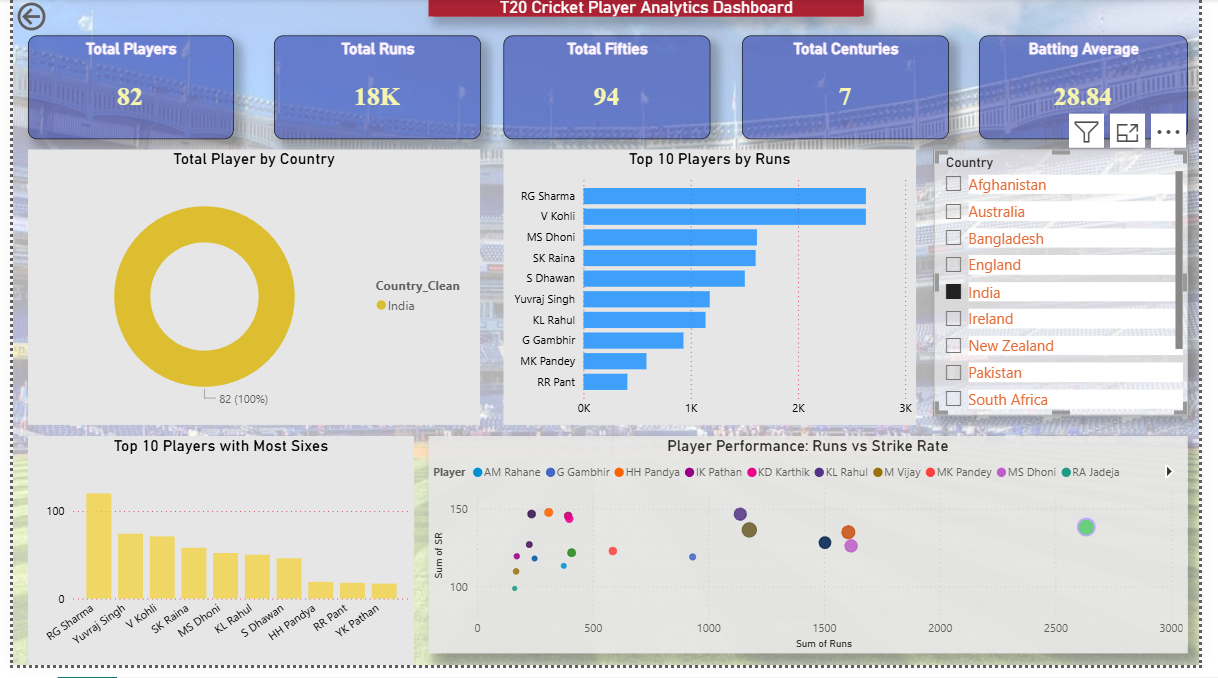

Layout of this report page (visuals, bound fields, positions):
{"tool":"powerbi","page":{"name":"Page 1","canvas":[1280,720],"ordinal":0},"visuals":[{"type":"cardVisual","title":"Total Players","fields":{"Data":["Sheet1.Total Players"]},"box":[16.7,40,221.7,111.7],"z":0},{"type":"cardVisual","title":"Total Centuries","fields":{"Data":["Sheet1.Total Centuries"]},"box":[786.7,40,223.3,111.7],"z":1000},{"type":"cardVisual","title":"Total Fifties","fields":{"Data":["Sheet1.Total Fifties"]},"box":[530,40,223.3,111.7],"z":2000},{"type":"cardVisual","title":"Total Runs","fields":{"Data":["Sheet1.Total Runs"]},"box":[281.7,40,223.3,111.7],"z":3000},{"type":"cardVisual","title":"Batting Average","fields":{"Data":["Sheet1.Batting Average"]},"box":[1043.3,40,225,111.7],"z":4000},{"type":"clusteredBarChart","title":"Top 10 Players by Runs","fields":{"Category":["Sheet1.Player"],"Y":["Sum(Sheet1.Runs)"]},"box":[529.7,163.8,445.4,297.4],"z":5000},{"type":"donutChart","title":"Total Player by Country","fields":{"Y":["Count(Sheet1.Player)"],"Category":["Sheet1.Country_Clean"]},"box":[15.9,163.8,488.3,297.4],"z":6000},{"type":"columnChart","title":"Top 10 Players with Most Sixes ","fields":{"Category":["Sheet1.Player"],"Y":["Sum(Sheet1.6s)"]},"box":[15.9,472.4,416.7,248.1],"z":7000},{"type":"slicer","fields":{"Values":["Sheet1.Country_Clean"]},"box":[994.2,163.5,273.6,286.6],"z":8000},{"type":"scatterChart","title":"Player Performance: Runs vs Strike Rate","fields":{"X":["Sum(Sheet1.Runs)"],"Y":["Sum(Sheet1.SR)"],"Size":["Sum(Sheet1.6s)"],"Series":["Sheet1.Player"]},"box":[448.5,472.8,819.3,234.8],"z":9000},{"type":"actionButton","box":[0,0,100,40],"z":10000},{"type":"textbox","title":"T20 Cricket Player Analytics Dashboard","box":[448.3,0,470,20],"z":11000}]}

Visuals, with their boxes in screenshot pixels (x1, y1, x2, y2):
"Total Players" cardVisual: 22,34,228,138
"Total Centuries" cardVisual: 738,34,945,138
"Total Fifties" cardVisual: 499,34,707,138
"Total Runs" cardVisual: 268,34,476,138
"Batting Average" cardVisual: 976,34,1186,138
"Top 10 Players by Runs" clusteredBarChart: 499,149,913,426
"Total Player by Country" donutChart: 21,149,475,426
"Top 10 Players with Most Sixes " columnChart: 21,436,409,667
slicer - Sheet1.Country_Clean: 931,149,1185,415
"Player Performance: Runs vs Strike Rate" scatterChart: 423,436,1185,655
actionButton: 6,0,99,34
"T20 Cricket Player Analytics Dashboard" textbox: 423,0,860,15
